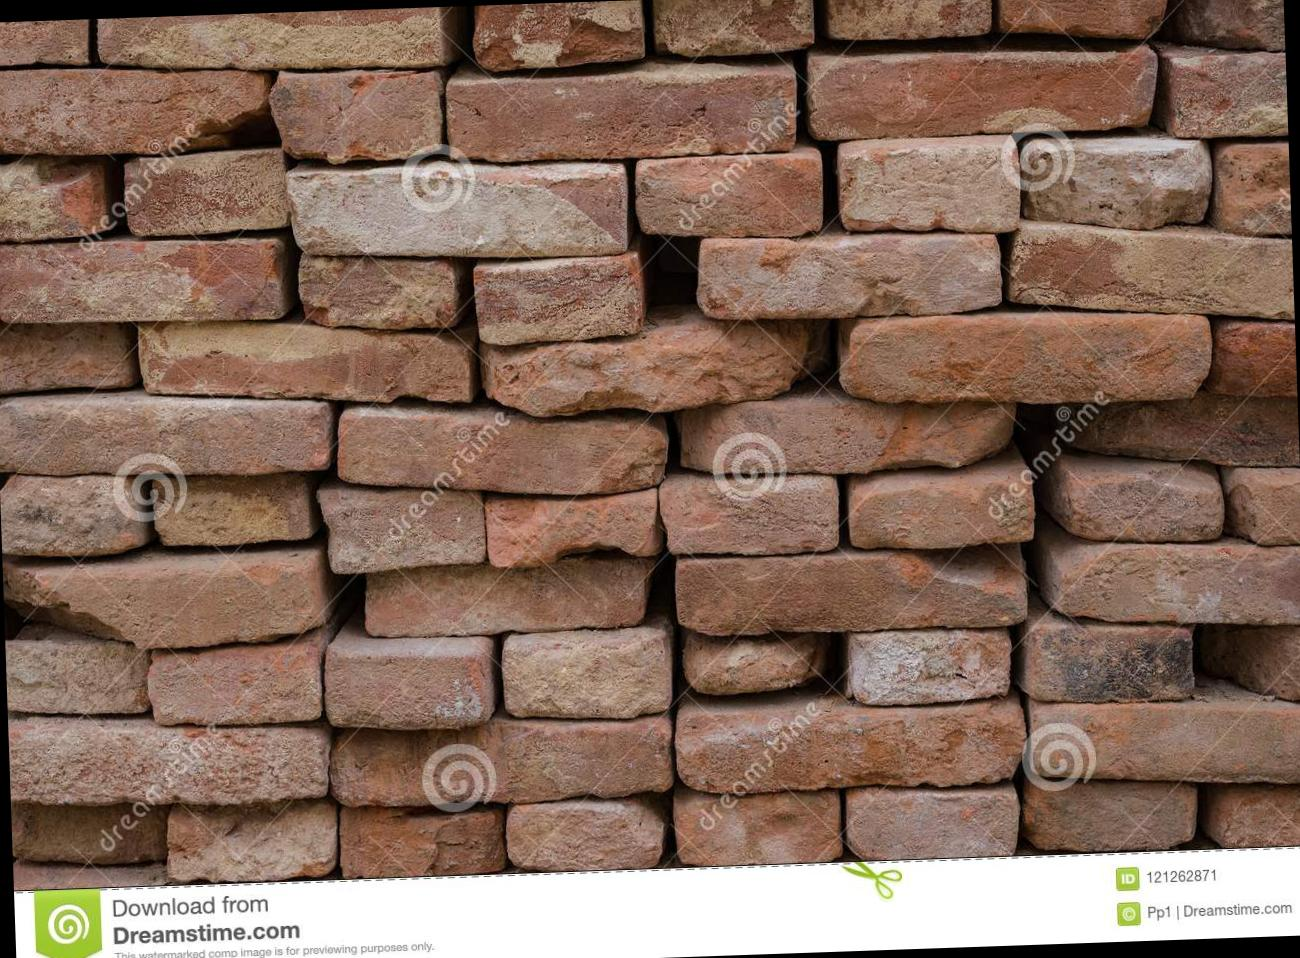brick: (837, 305, 1213, 412), (285, 162, 625, 267), (335, 398, 670, 503), (482, 314, 809, 420), (8, 706, 333, 812), (806, 45, 1160, 142), (446, 67, 799, 163), (1006, 214, 1295, 329), (138, 313, 470, 413), (330, 713, 674, 809), (675, 702, 1030, 794), (4, 551, 318, 654), (0, 386, 332, 481), (674, 548, 1026, 637), (680, 390, 1018, 478), (694, 228, 1001, 322), (1027, 695, 1300, 793), (0, 236, 288, 328), (0, 61, 270, 155), (96, 7, 443, 78), (1048, 536, 1300, 632), (364, 554, 650, 638), (1017, 132, 1215, 235), (1081, 394, 1300, 474), (272, 67, 445, 166), (837, 144, 1020, 237), (635, 151, 825, 241), (318, 484, 486, 573), (848, 470, 1035, 551), (503, 634, 672, 723), (658, 474, 840, 557), (474, 255, 643, 344), (123, 147, 286, 236), (1022, 622, 1195, 704), (148, 645, 323, 726), (484, 488, 658, 568), (165, 804, 338, 883), (846, 783, 1021, 861), (325, 646, 485, 731), (846, 628, 1014, 706), (673, 791, 843, 867), (472, 0, 646, 73), (299, 251, 455, 331), (339, 803, 504, 878), (1025, 780, 1198, 852), (1067, 466, 1223, 544), (0, 471, 142, 556), (505, 800, 665, 872), (5, 637, 148, 717), (1169, 50, 1289, 139), (153, 477, 311, 545), (11, 804, 164, 864), (682, 630, 820, 697), (653, 0, 815, 57), (0, 159, 105, 241), (0, 327, 130, 392), (998, 0, 1169, 40), (828, 0, 992, 41), (1226, 466, 1300, 546)
